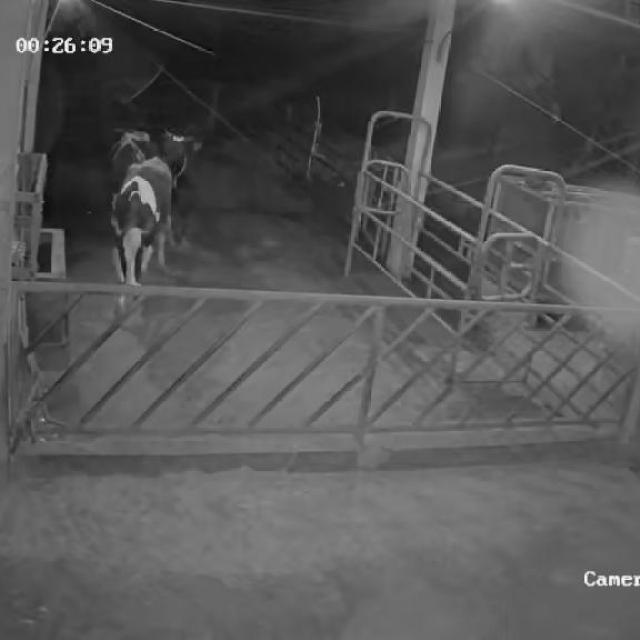standing: (109, 160, 170, 318), (106, 122, 154, 191)
